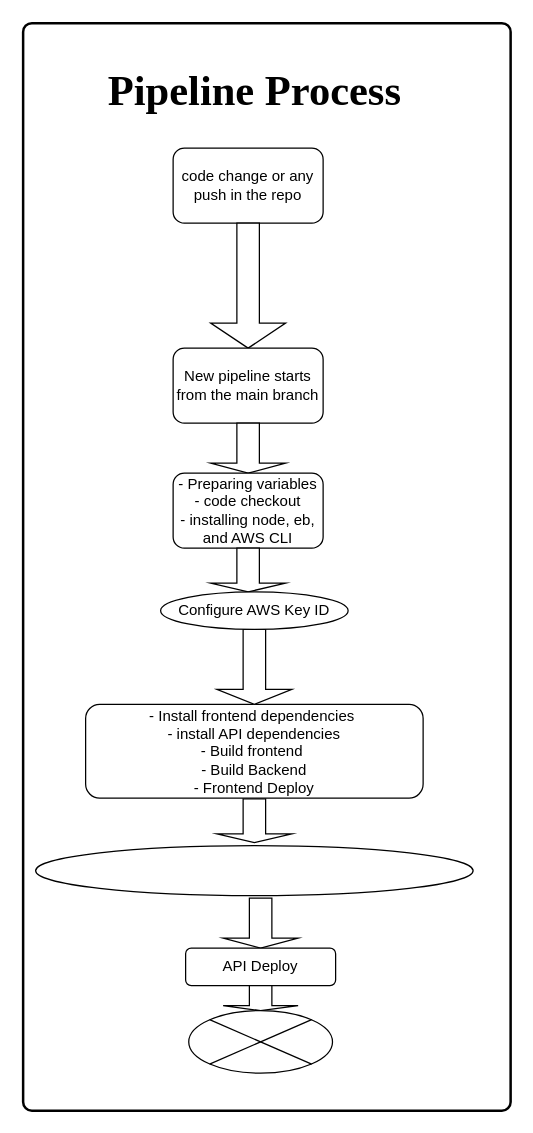
This 533x1133 diagram has some shape labels left out. Each missing label, with the box of its shape:
CircleCI triggering: (209, 222, 286, 348)
Exit CircleCI: (188, 1009, 332, 1073)
Update Elastic Beanstalk with environments variables: (34, 844, 473, 896)
